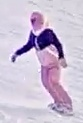snowboarder: (11, 11, 75, 116)
